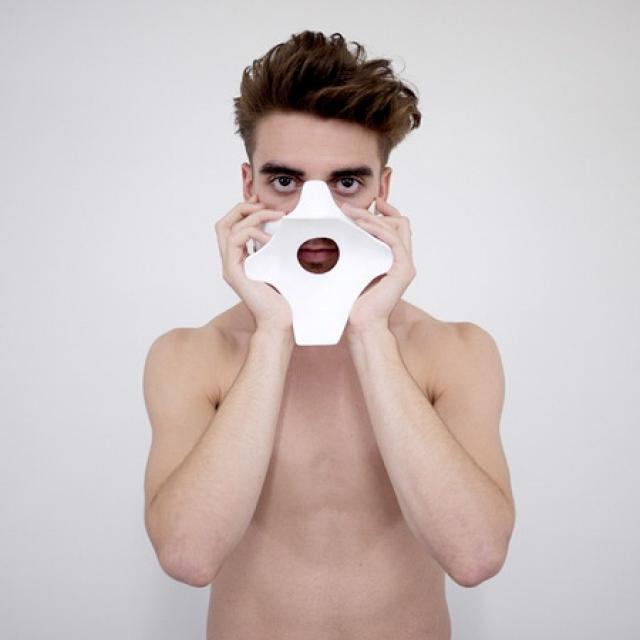mask: (251, 114, 383, 292)
